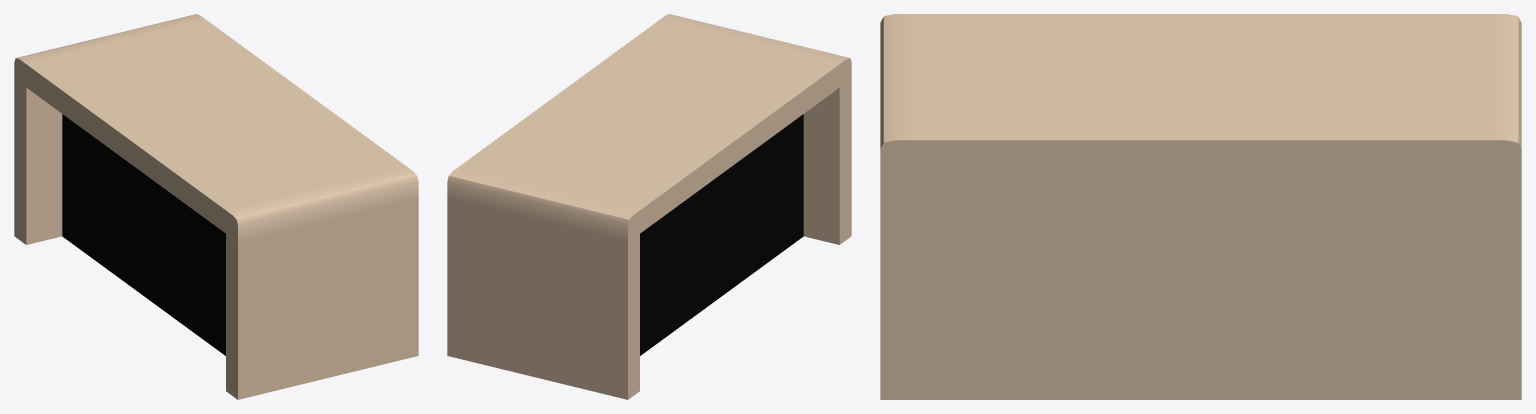
The model's file is Zen_KitchenTable.FBX.
3 renders of one model, left to right at view 1: azimuth 30°, elevation 25°; view 2: azimuth 150°, elevation 25°; view 3: azimuth 270°, elevation 25°, orthographic. The views are drawn at different scales.
Visible parts, largest first — view 1: Zen_Kitchentable; view 2: Zen_Kitchentable; view 3: Zen_Kitchentable.
Part boxes in pixels (<box>): Zen_Kitchentable: <box>14,14,418,399</box>; Zen_Kitchentable: <box>447,14,851,399</box>; Zen_Kitchentable: <box>880,14,1521,399</box>.
Size of the model in its own units: 63.95 by 61.19 by 137.
